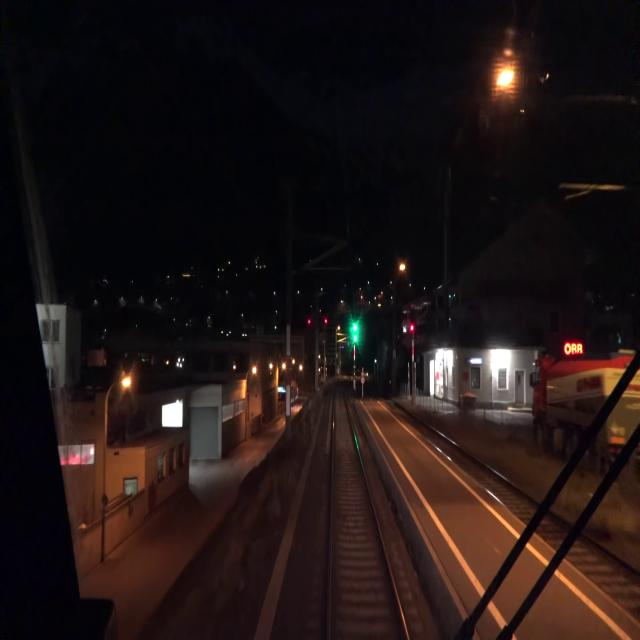rail-track: (331, 382, 404, 639), (390, 402, 538, 521)
